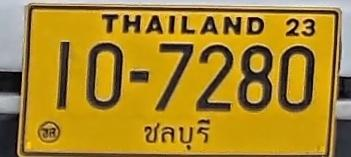0: (278, 44, 314, 111), (87, 42, 122, 109)
1: (56, 42, 70, 110)
2: (196, 44, 233, 111)
7: (156, 42, 194, 111)
8: (238, 44, 272, 111)
CBI: (136, 114, 217, 151)
